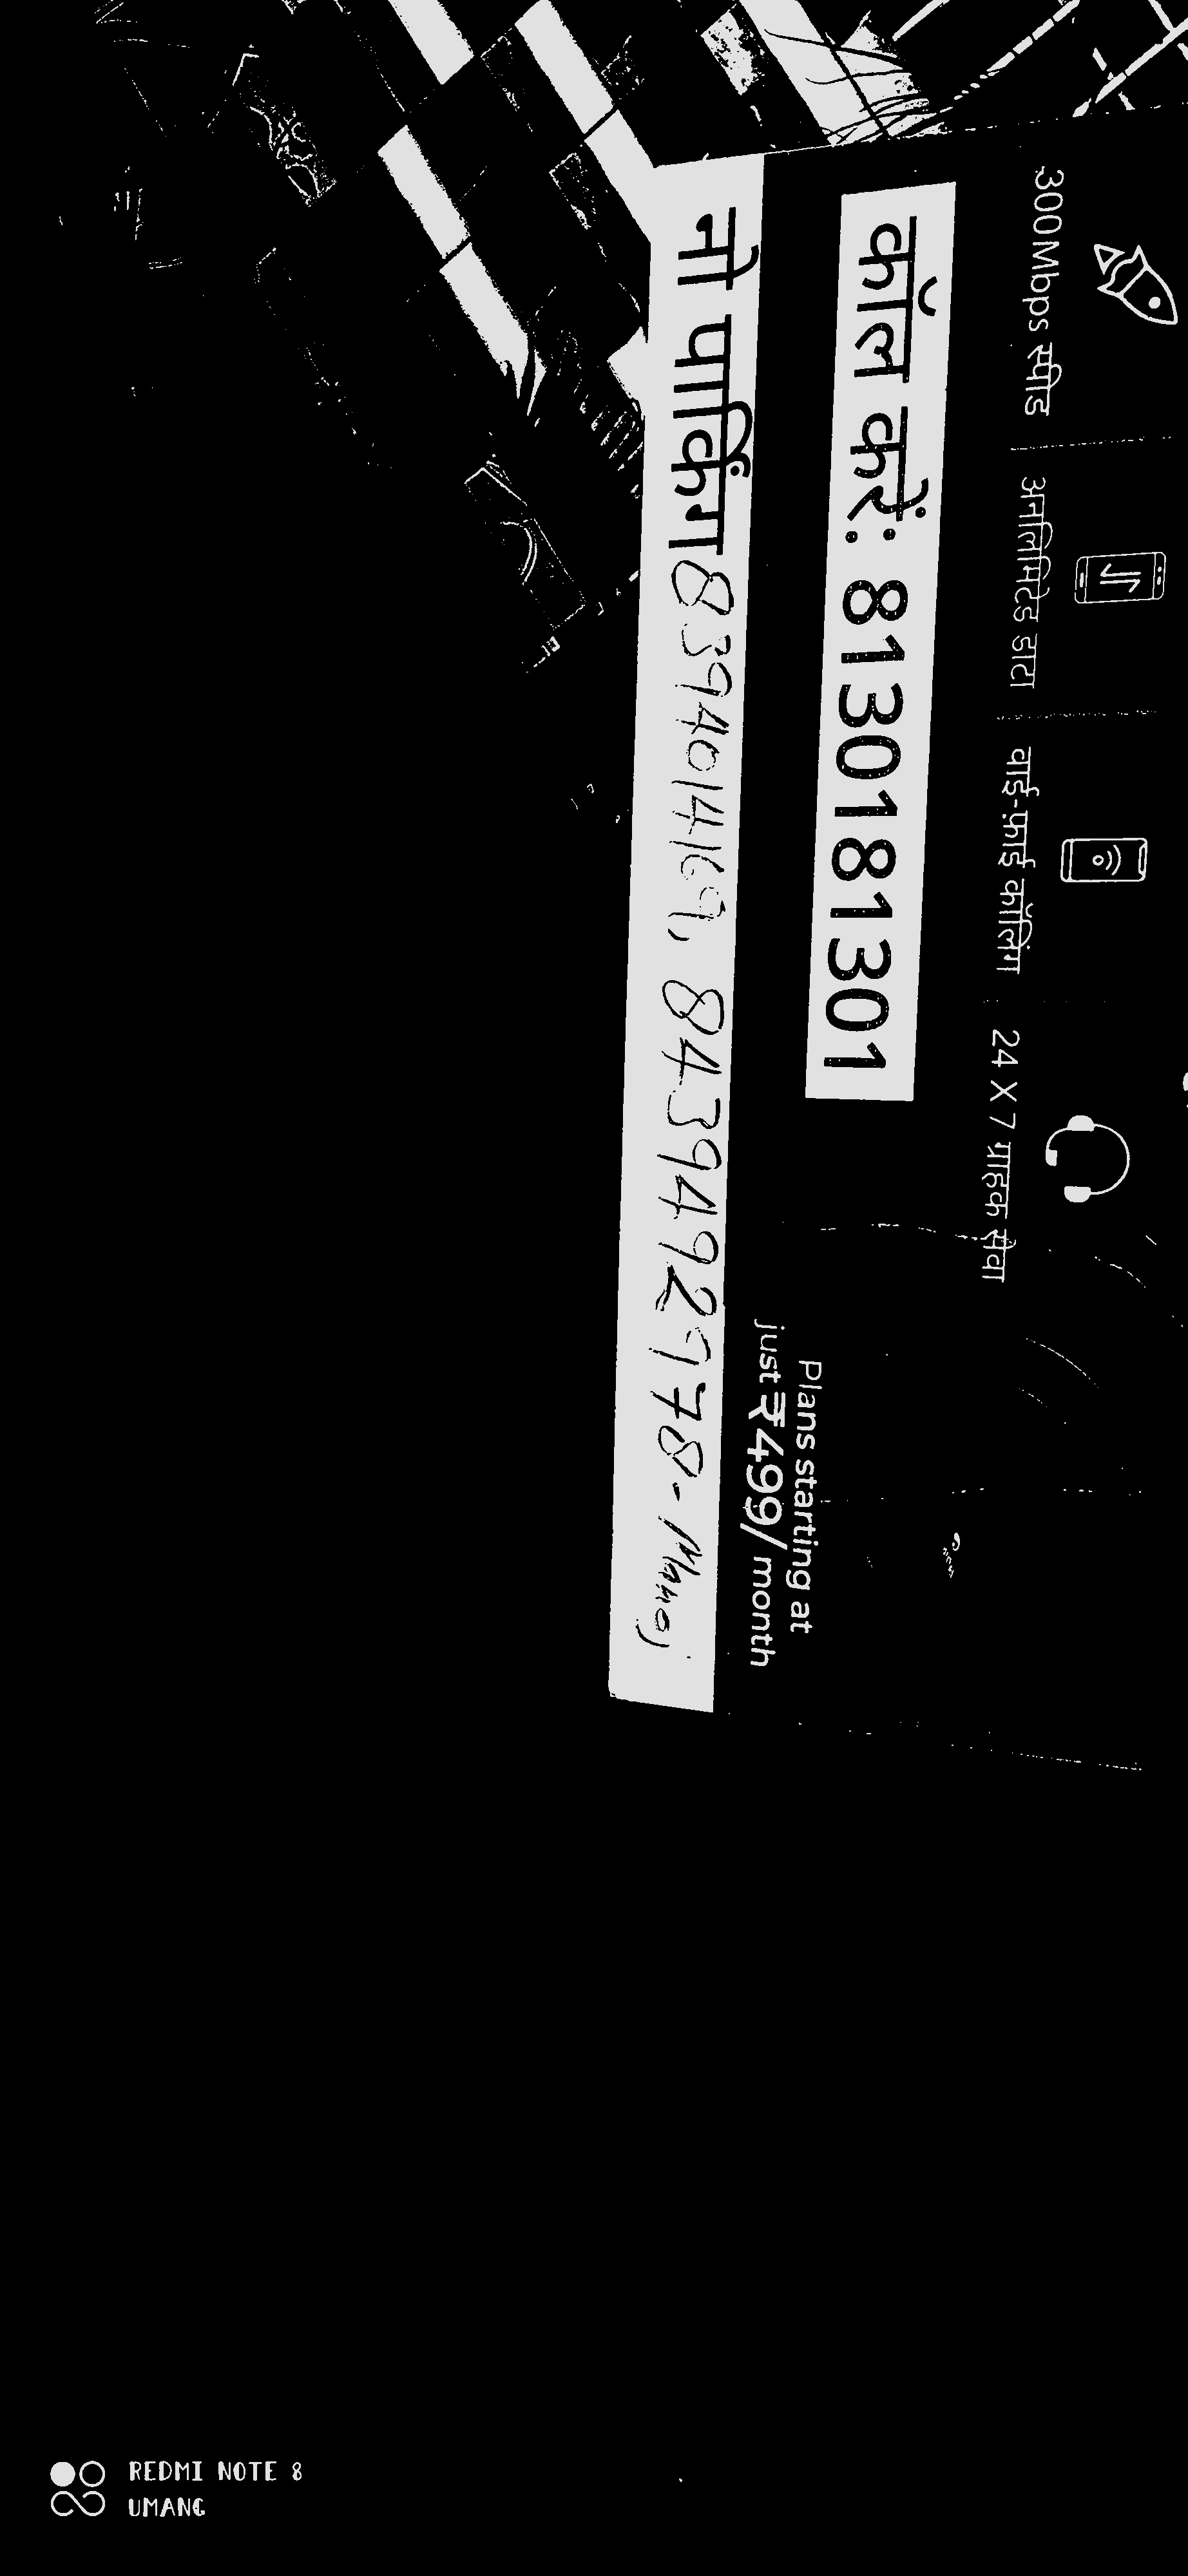text: (605, 105, 1186, 1773)
